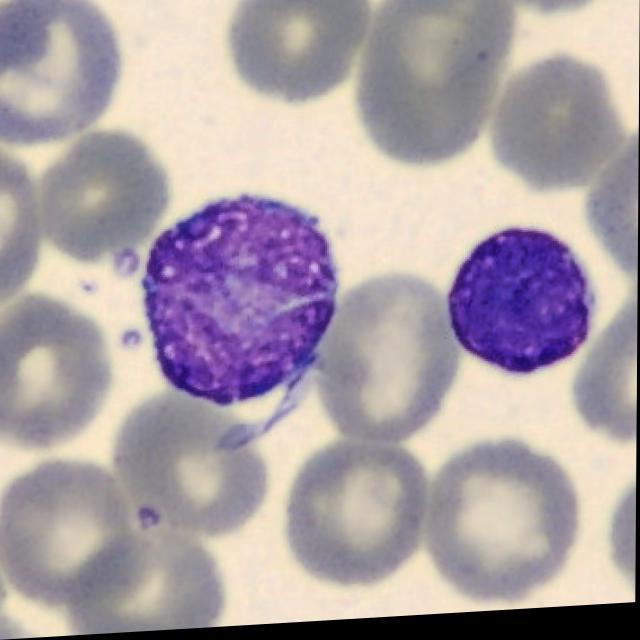Linfocito: (142, 198, 338, 411), (448, 236, 595, 381)
